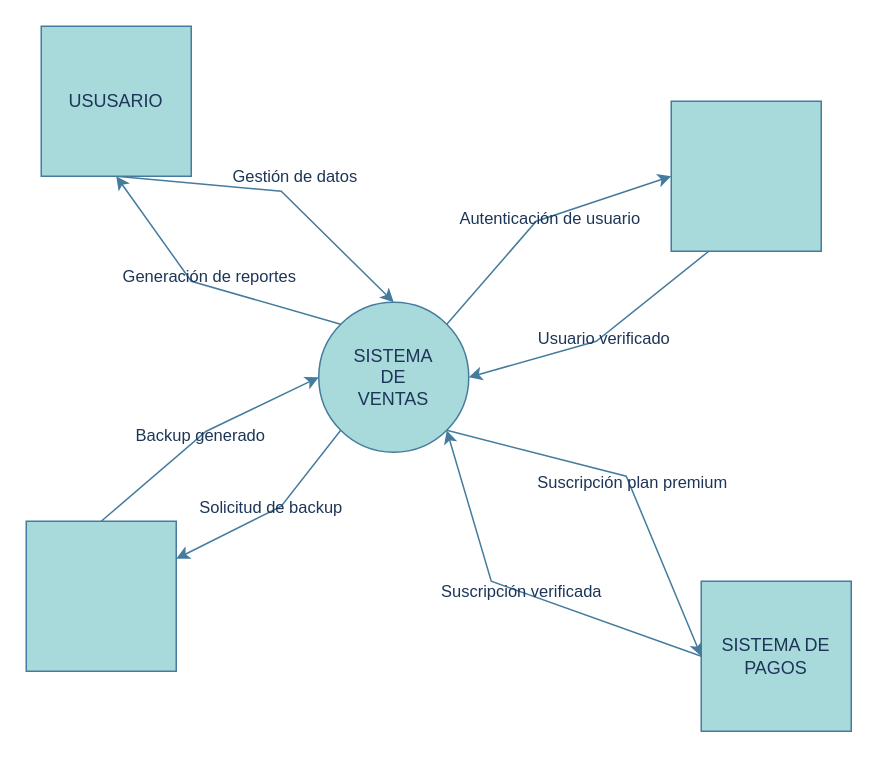
Some shapes in this 878 by 758 pixel diagram are drawn without their labels. The shapes that lost their labels are listed below. From the top down, each one's box as (x1, y1, x2, y2) in pixels, then its label:
(670, 100, 821, 251): AUTH0
(25, 520, 176, 671): SISTEMA DE BACKUP
